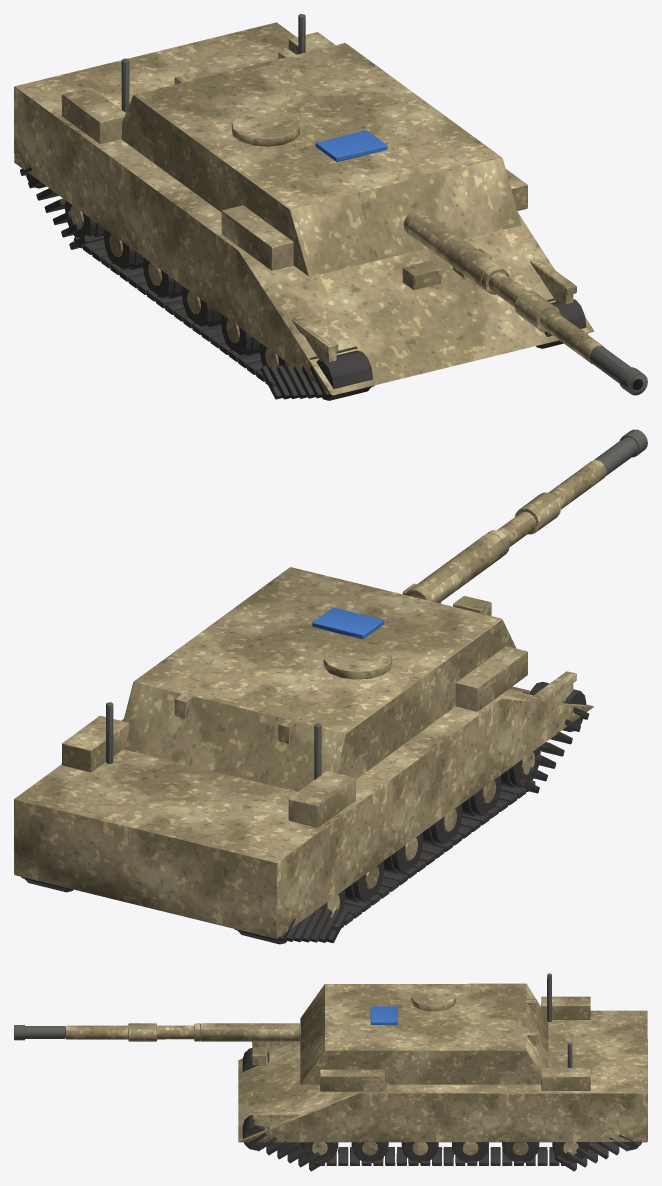
File: afv_e4_us_tankdestroyer_LOD1.glb
3 views of the same model, one above another, from view 1: azimuth 30°, elevation 25°; view 2: azimuth 150°, elevation 25°; view 3: azimuth 270°, elevation 25° (orthographic). The views are drawn at different scales.
Parts seen in each view (by area): view 1: afv_e4_us_tankdestroyer_LOD1_body, afv_e4_us_tankdestroyer_LOD1_track, afv_e4_us_tankdestroyer_LOD1_gun, afv_e4_us_tankdestroyer_LOD1_team; view 2: afv_e4_us_tankdestroyer_LOD1_body, afv_e4_us_tankdestroyer_LOD1_track, afv_e4_us_tankdestroyer_LOD1_gun, afv_e4_us_tankdestroyer_LOD1_team; view 3: afv_e4_us_tankdestroyer_LOD1_body, afv_e4_us_tankdestroyer_LOD1_track, afv_e4_us_tankdestroyer_LOD1_gun, afv_e4_us_tankdestroyer_LOD1_team.
Part boxes in pixels (x1,y1,x2,y2): afv_e4_us_tankdestroyer_LOD1_body: (14,22,604,395); afv_e4_us_tankdestroyer_LOD1_track: (20,167,587,400); afv_e4_us_tankdestroyer_LOD1_gun: (121,14,647,395); afv_e4_us_tankdestroyer_LOD1_team: (315,130,387,162); afv_e4_us_tankdestroyer_LOD1_body: (14,460,606,938); afv_e4_us_tankdestroyer_LOD1_track: (21,682,589,944); afv_e4_us_tankdestroyer_LOD1_gun: (106,429,647,779); afv_e4_us_tankdestroyer_LOD1_team: (312,607,384,639); afv_e4_us_tankdestroyer_LOD1_body: (65,983,647,1155); afv_e4_us_tankdestroyer_LOD1_track: (242,1048,641,1171); afv_e4_us_tankdestroyer_LOD1_gun: (14,973,572,1067); afv_e4_us_tankdestroyer_LOD1_team: (370,1006,397,1024).
Size of the model in its own units: 3.15 by 2.24 by 10.2.
Materials: 5 (1 with a texture image).
